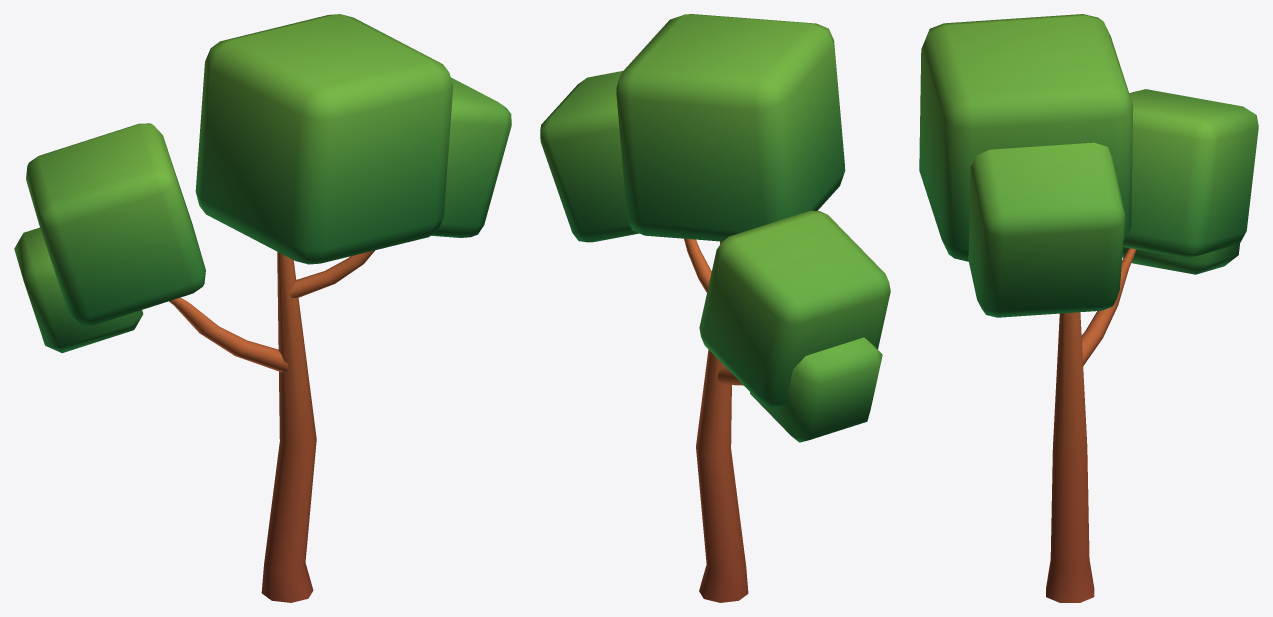
The model's file is tree_2_c_trunk.glb.
3 views of the same model, side by side, from view 1: azimuth 30°, elevation 25°; view 2: azimuth 150°, elevation 25°; view 3: azimuth 270°, elevation 25° (orthographic). The views are drawn at different scales.
Visible parts, largest first — view 1: tree_2_c_trunk; view 2: tree_2_c_trunk; view 3: tree_2_c_trunk.
Part boxes in pixels (x1,y1,x2,y2): tree_2_c_trunk: (14, 14, 511, 602); tree_2_c_trunk: (540, 14, 890, 602); tree_2_c_trunk: (919, 14, 1258, 602).
Bounding box in the file's own units: 5.06 × 6.73 × 3.74.
Materials: 2 (2 with a texture image).
